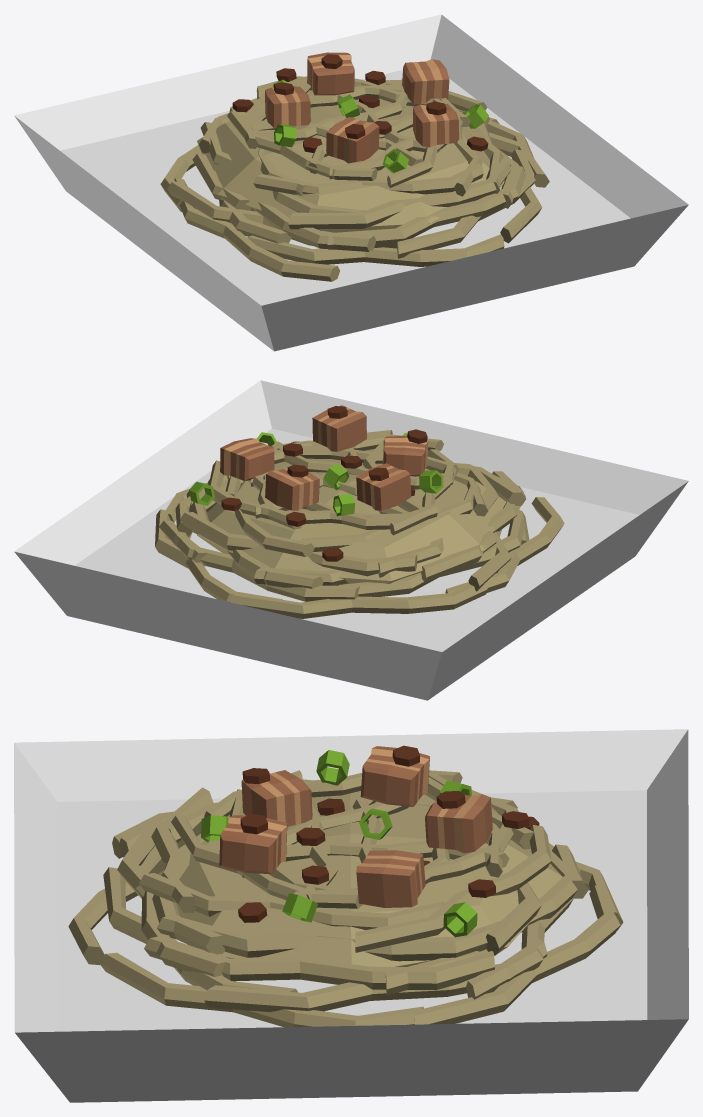
The model's file is FINAL_Pancit Habhab.fbx.
3 views of the same model, one above another, from view 1: azimuth 30°, elevation 25°; view 2: azimuth 150°, elevation 25°; view 3: azimuth 270°, elevation 25° (orthographic). The views are drawn at different scales.
Parts seen in each view (by area): view 1: Pancit Habhab; view 2: Pancit Habhab; view 3: Pancit Habhab.
Boxes of the visible parts, <box> form: Pancit Habhab: <box>14,14,688,351</box>; Pancit Habhab: <box>14,380,688,700</box>; Pancit Habhab: <box>14,729,688,1102</box>.
Size of the model in its own units: 94.51 by 30.9 by 94.5.
